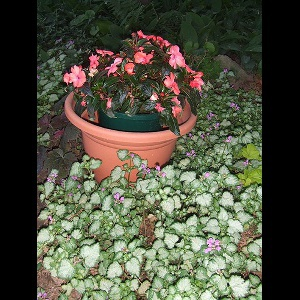flowerpot: (65, 83, 200, 206)
